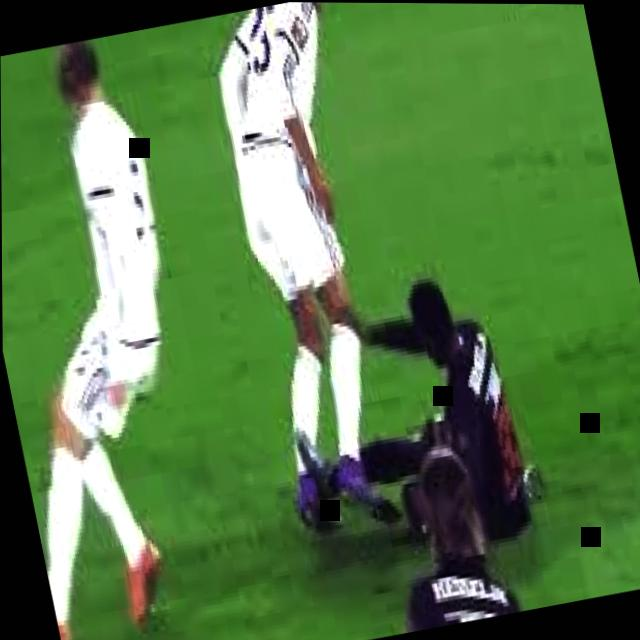Fall-Detected: (262, 239, 555, 574)
